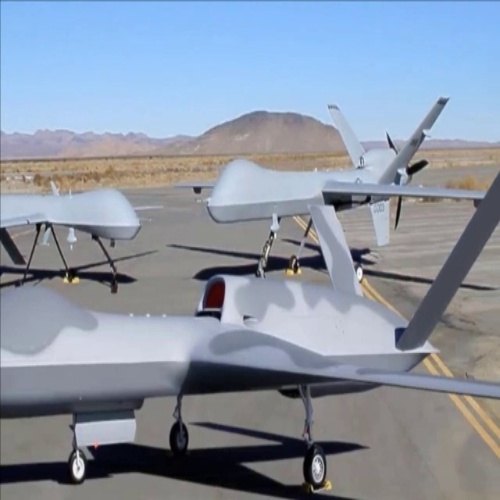uav903: (1, 204, 493, 499), (177, 91, 455, 267), (1, 181, 153, 293)
